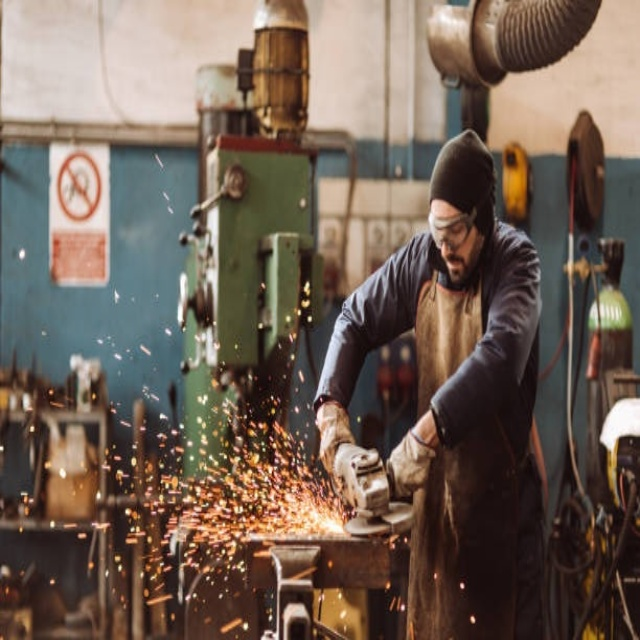Gafas: (429, 209, 477, 252)
Guantes: (316, 401, 362, 494), (384, 426, 436, 501)
Sin_mascara: (440, 248, 465, 283)
